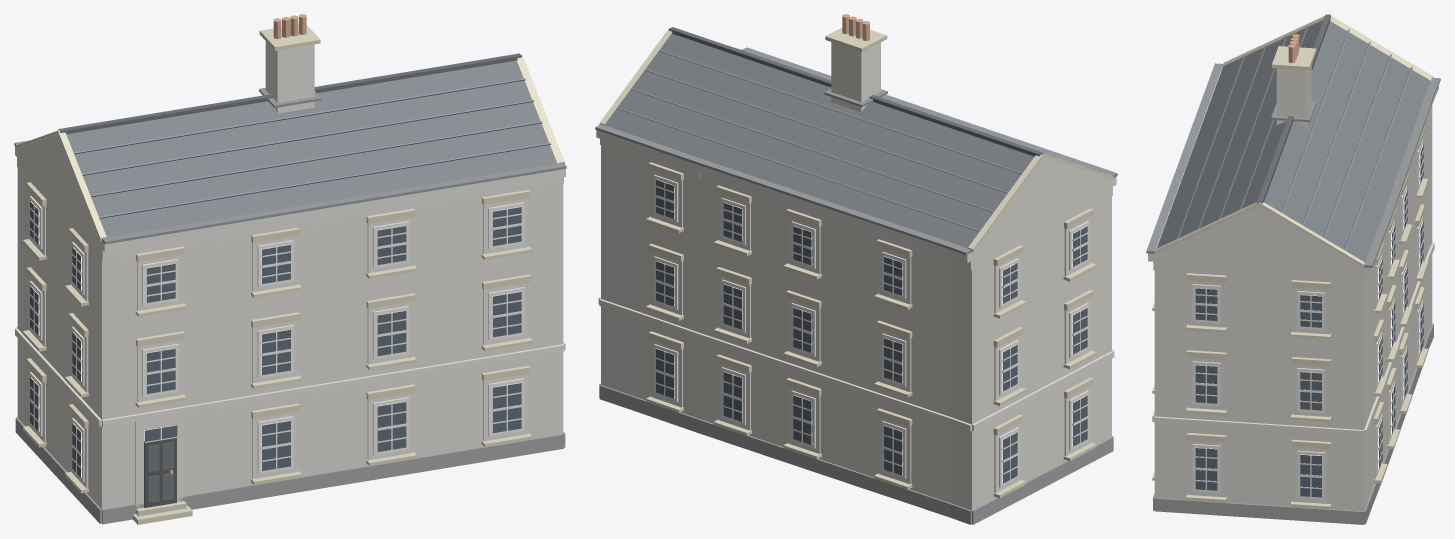
3 views of the same model, side by side, from view 1: azimuth 30°, elevation 25°; view 2: azimuth 150°, elevation 25°; view 3: azimuth 270°, elevation 25° (orthographic). The views are drawn at different scales.
Parts seen in each view (by area): view 1: harl_grey, slate, string, dress_buff, frame, plinth, slate_lt, lead, slate_dk, chim_render, door_dark_p, window_glass_031 (+12 smaller); view 2: harl_grey, slate, string, dress_buff, frame, plinth, lead, slate_lt, chim_render, slate_dk, window_glass_010, window_glass_007 (+8 smaller); view 3: harl_grey, slate, dress_buff, string, frame, lead, plinth, slate_lt, chim_render, slate_dk, window_glass_022, window_glass_019 (+4 smaller).
Boxes of the visible parts, x1=… form: harl_grey: x1=17, y1=134, x2=563, y2=509; slate: x1=66, y1=60, x2=557, y2=237; string: x1=15, y1=146, x2=565, y2=508; dress_buff: x1=16, y1=24, x2=564, y2=524; frame: x1=29, y1=196, x2=524, y2=482; plinth: x1=15, y1=417, x2=565, y2=524; slate_lt: x1=73, y1=78, x2=550, y2=218; lead: x1=14, y1=88, x2=566, y2=244; slate_dk: x1=58, y1=53, x2=521, y2=134; chim_render: x1=265, y1=41, x2=314, y2=113; door_dark_p: x1=148, y1=442, x2=173, y2=503; window_glass_031: x1=377, y1=401, x2=406, y2=451; harl_grey: x1=601, y1=145, x2=1111, y2=510; slate: x1=604, y1=33, x2=1034, y2=248; string: x1=596, y1=130, x2=1116, y2=493; dress_buff: x1=599, y1=27, x2=1113, y2=498; frame: x1=654, y1=175, x2=1088, y2=487; plinth: x1=599, y1=383, x2=1113, y2=524; lead: x1=595, y1=47, x2=1117, y2=254; slate_lt: x1=616, y1=49, x2=1022, y2=231; chim_render: x1=831, y1=42, x2=880, y2=112; slate_dk: x1=669, y1=27, x2=1043, y2=156; window_glass_010: x1=723, y1=372, x2=742, y2=421; window_glass_007: x1=884, y1=425, x2=902, y2=475; harl_grey: x1=1154, y1=106, x2=1432, y2=511; slate: x1=1157, y1=20, x2=1430, y2=262; dress_buff: x1=1152, y1=14, x2=1432, y2=509; string: x1=1148, y1=66, x2=1438, y2=503; frame: x1=1192, y1=140, x2=1423, y2=499; lead: x1=1146, y1=63, x2=1440, y2=267; plinth: x1=1153, y1=323, x2=1433, y2=524; slate_lt: x1=1176, y1=26, x2=1412, y2=250; chim_render: x1=1276, y1=65, x2=1311, y2=127; slate_dk: x1=1257, y1=14, x2=1330, y2=203; window_glass_022: x1=1300, y1=454, x2=1321, y2=497; window_glass_019: x1=1195, y1=447, x2=1217, y2=490.
Size of the model in its own units: 15.29 by 13.42 by 9.35.
